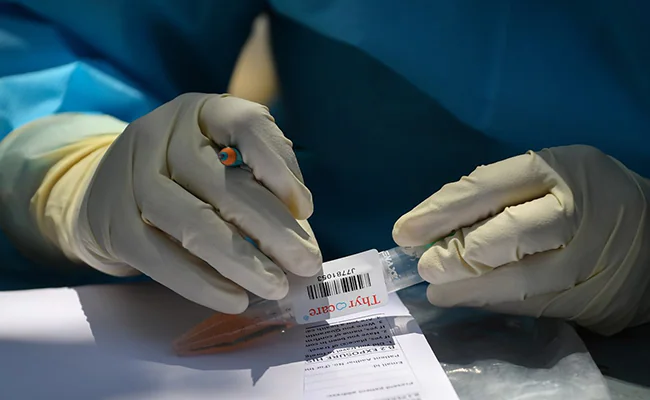Gloves: (16, 88, 323, 313), (391, 141, 650, 338)
